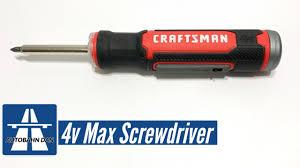screwdriver: (21, 28, 281, 72), (9, 45, 21, 52)
